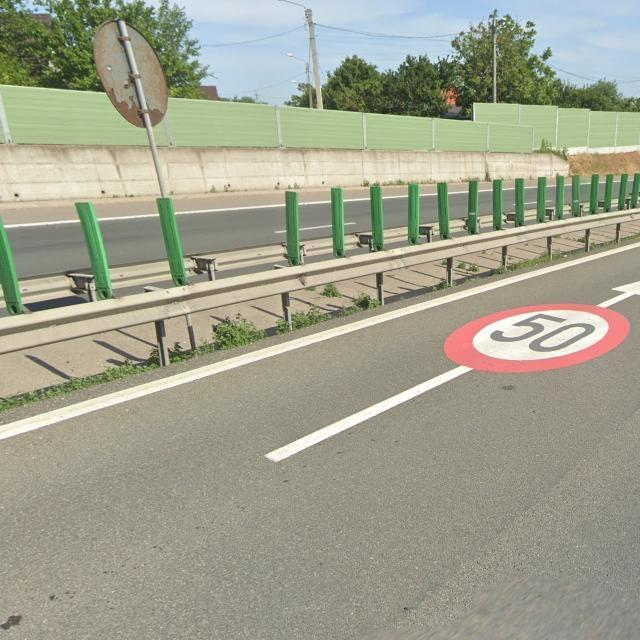forb_speed_over_50: (443, 302, 631, 373)
